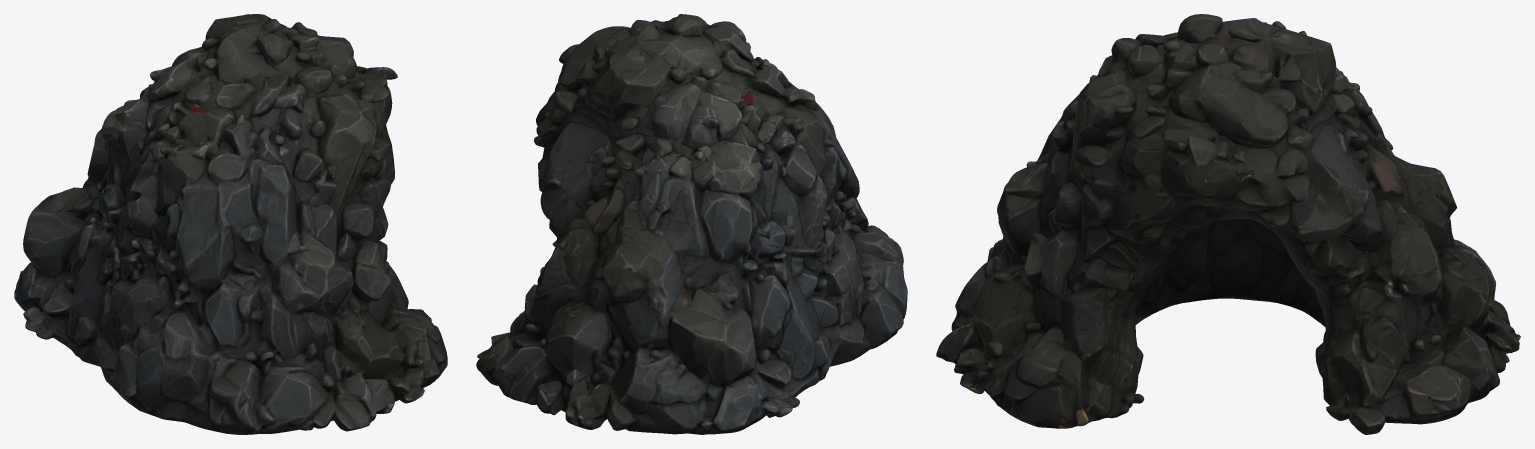
File: nature-cave-entrance.glb
The picture shows the model from 3 angles, left to right: view 1: azimuth 30°, elevation 25°; view 2: azimuth 150°, elevation 25°; view 3: azimuth 270°, elevation 25°; orthographic projection. The views are drawn at different scales.
Visible parts, largest first — view 1: tripo_node_9c2ad350-b88d-461a-8352-7af2b5c6a2ab; view 2: tripo_node_9c2ad350-b88d-461a-8352-7af2b5c6a2ab; view 3: tripo_node_9c2ad350-b88d-461a-8352-7af2b5c6a2ab.
Boxes of the visible parts, left/top/right/bottom form: tripo_node_9c2ad350-b88d-461a-8352-7af2b5c6a2ab: left=14, top=14, right=447, bottom=434; tripo_node_9c2ad350-b88d-461a-8352-7af2b5c6a2ab: left=476, top=14, right=907, bottom=434; tripo_node_9c2ad350-b88d-461a-8352-7af2b5c6a2ab: left=936, top=14, right=1520, bottom=434.
Bounding box in the file's own units: 6.33 × 6 × 8.97.
Materials: 1 (1 with a texture image).
